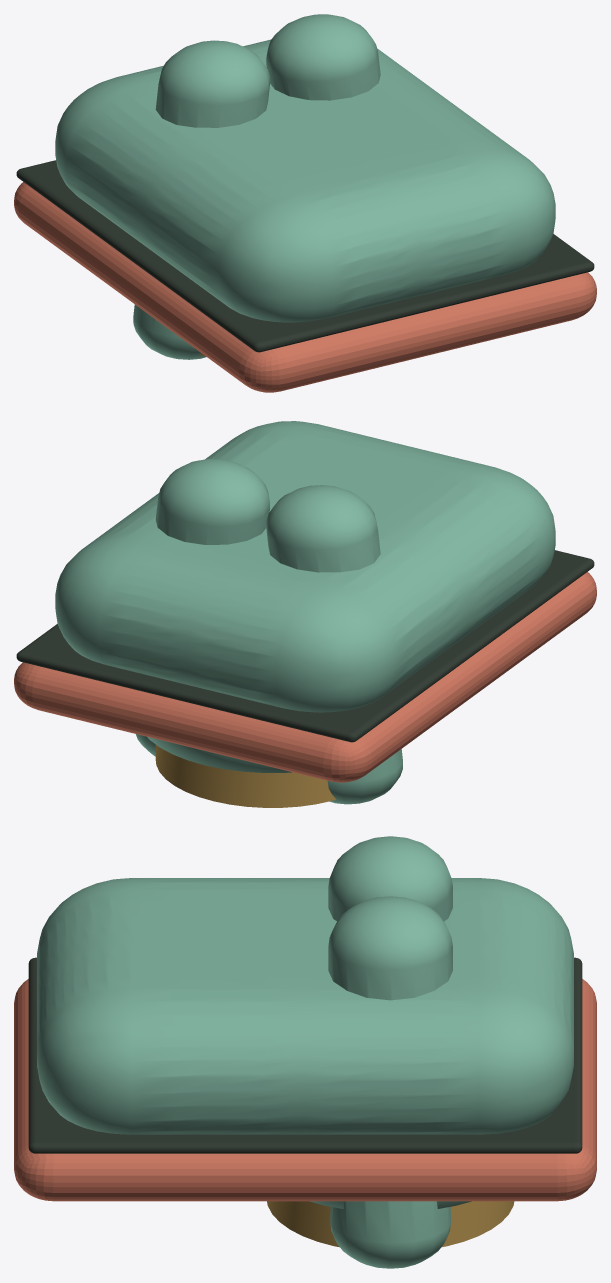
Rendered from deadeye-leg-1.glb.
3 renders of one model, top to bottom at view 1: azimuth 30°, elevation 25°; view 2: azimuth 150°, elevation 25°; view 3: azimuth 270°, elevation 25°, orthographic. The views are drawn at different scales.
Visible parts, largest first — view 1: foot_clay, foot_hardware (×2), lower_clay; view 2: foot_clay, foot_hardware (×2), lower_clay, upper_hardware, upper_clay; view 3: foot_clay, foot_hardware (×2), lower_clay, upper_hardware.
Part boxes in pixels (bbox=[...]): foot_clay: bbox=[55, 39, 555, 322]; foot_hardware (×2): bbox=[14, 160, 596, 392]; lower_clay: bbox=[133, 14, 380, 359]; foot_clay: bbox=[55, 421, 555, 712]; foot_hardware (×2): bbox=[14, 550, 596, 782]; lower_clay: bbox=[136, 458, 402, 804]; upper_hardware: bbox=[155, 745, 336, 807]; upper_clay: bbox=[147, 736, 291, 772]; foot_clay: bbox=[37, 878, 573, 1134]; foot_hardware (×2): bbox=[14, 957, 596, 1201]; lower_clay: bbox=[328, 836, 452, 1268]; upper_hardware: bbox=[267, 1201, 514, 1247].
Bounding box in the file's own units: 0.6256 × 0.507 × 0.7832.
